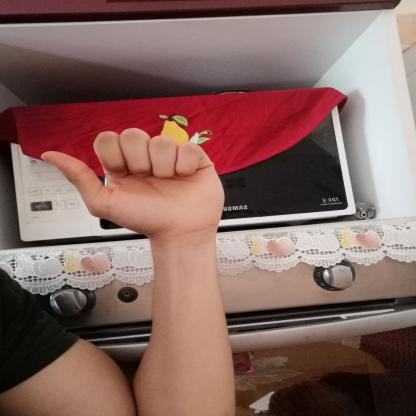DAD: (28, 120, 236, 248)
